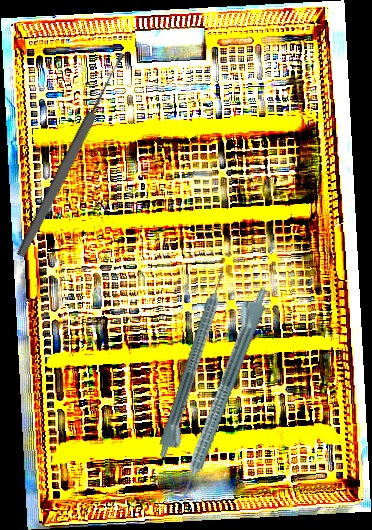Handpiece: (166, 281, 272, 505), (155, 270, 237, 462)
Surgical Spoon: (14, 51, 130, 259)
